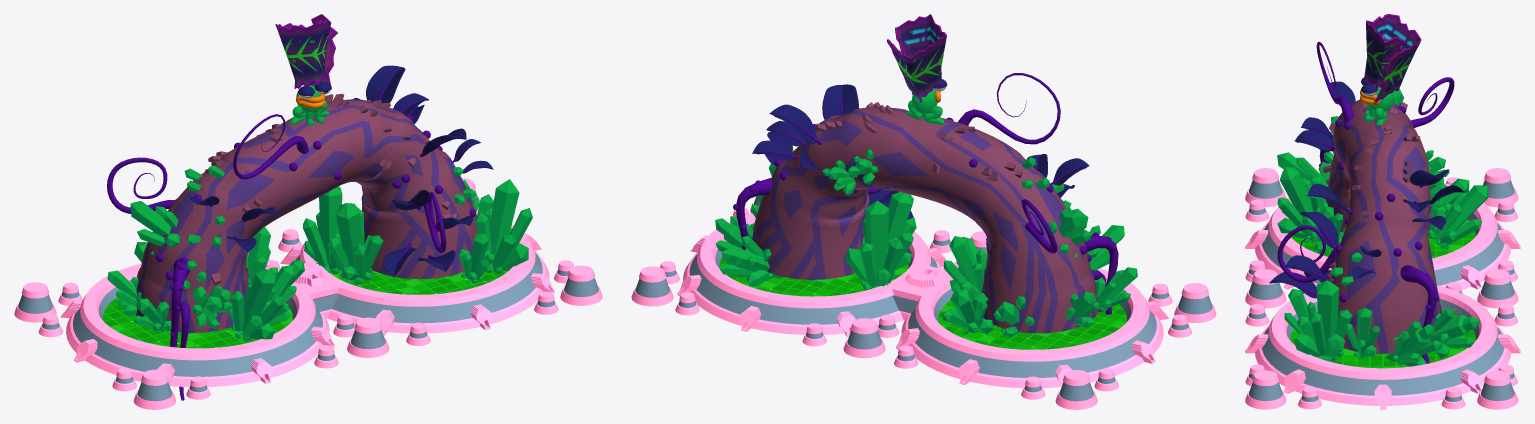
Rendered from Saacred_Root.fbx.
3 renders of one model, left to right at view 1: azimuth 30°, elevation 25°; view 2: azimuth 150°, elevation 25°; view 3: azimuth 270°, elevation 25°, orthographic. The views are drawn at different scales.
Parts seen in each view (by area): view 1: sacreed_root, crystal, pool_details, pool2, pool1, leaves, vines, leafy_hat, fud2, fud1, barkbits, buds; view 2: sacreed_root, crystal, pool_details, pool2, pool1, leaves, vines, leafy_hat, fud2, fud1, barkbits; view 3: sacreed_root, crystal, pool_details, pool1, pool2, leaves, vines, leafy_hat, fud1, barkbits, fud2, buds (+1 smaller).
Part boxes in pixels (bbox=[...]): sacreed_root: bbox=[136, 99, 477, 332]; crystal: bbox=[107, 165, 532, 341]; pool_details: bbox=[14, 178, 602, 409]; pool2: bbox=[66, 263, 329, 387]; pool1: bbox=[290, 209, 549, 333]; leaves: bbox=[190, 65, 493, 277]; vines: bbox=[107, 114, 446, 400]; leafy_hat: bbox=[275, 14, 337, 89]; fud2: bbox=[102, 297, 292, 348]; fud1: bbox=[328, 268, 511, 294]; barkbits: bbox=[205, 93, 456, 284]; buds: bbox=[156, 115, 475, 336]; sacreed_root: bbox=[752, 107, 1098, 333]; crystal: bbox=[715, 146, 1137, 337]; pool_details: bbox=[631, 196, 1216, 409]; pool2: bbox=[901, 268, 1163, 388]; pool1: bbox=[683, 213, 942, 334]; leaves: bbox=[752, 84, 1089, 219]; vines: bbox=[736, 73, 1118, 314]; leafy_hat: bbox=[887, 14, 946, 102]; fud2: bbox=[938, 300, 1127, 349]; fud1: bbox=[719, 257, 908, 296]; barkbits: bbox=[816, 102, 1039, 180]; sacreed_root: bbox=[1326, 99, 1441, 353]; crystal: bbox=[1277, 88, 1488, 366]; pool_details: bbox=[1245, 168, 1520, 409]; pool1: bbox=[1255, 285, 1511, 405]; pool2: bbox=[1255, 183, 1510, 290]; leaves: bbox=[1269, 81, 1463, 298]; vines: bbox=[1277, 42, 1454, 363]; leafy_hat: bbox=[1363, 14, 1421, 102]; fud1: bbox=[1290, 309, 1475, 368]; barkbits: bbox=[1322, 102, 1420, 282]; fud2: bbox=[1291, 219, 1475, 258]; buds: bbox=[1319, 106, 1439, 318].
Size of the model in its own units: 461 by 300 by 243.
